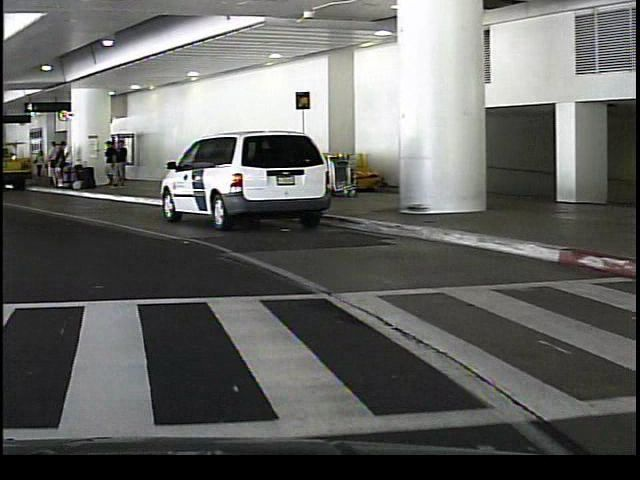person: (41, 138, 56, 190), (113, 139, 127, 187)
